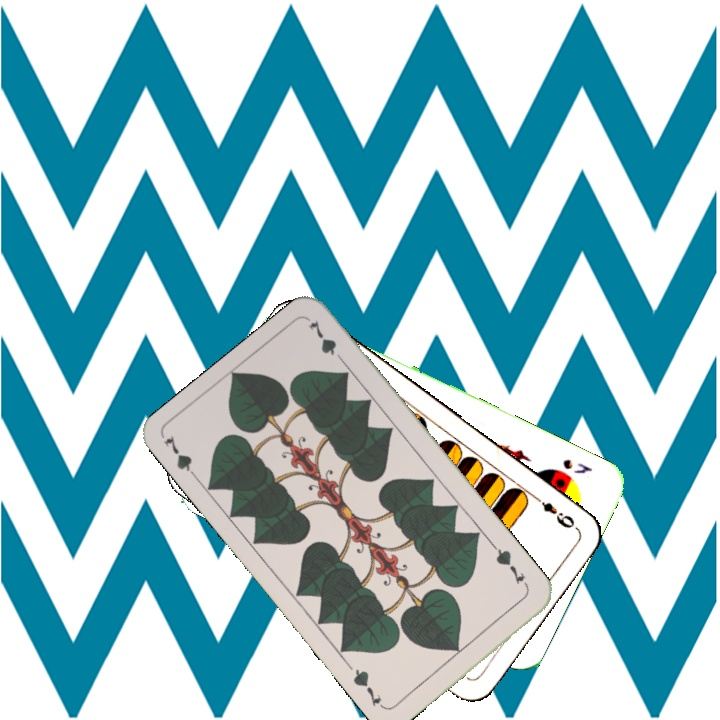E9: (528, 490, 579, 531)
G7: (159, 431, 203, 485), (489, 542, 528, 587)
SK: (558, 454, 595, 477)
